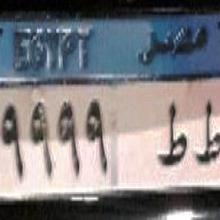9: (24, 100, 52, 175), (82, 99, 110, 172), (0, 101, 24, 182), (56, 98, 80, 177)
Taa: (156, 96, 188, 170), (191, 97, 220, 170)
